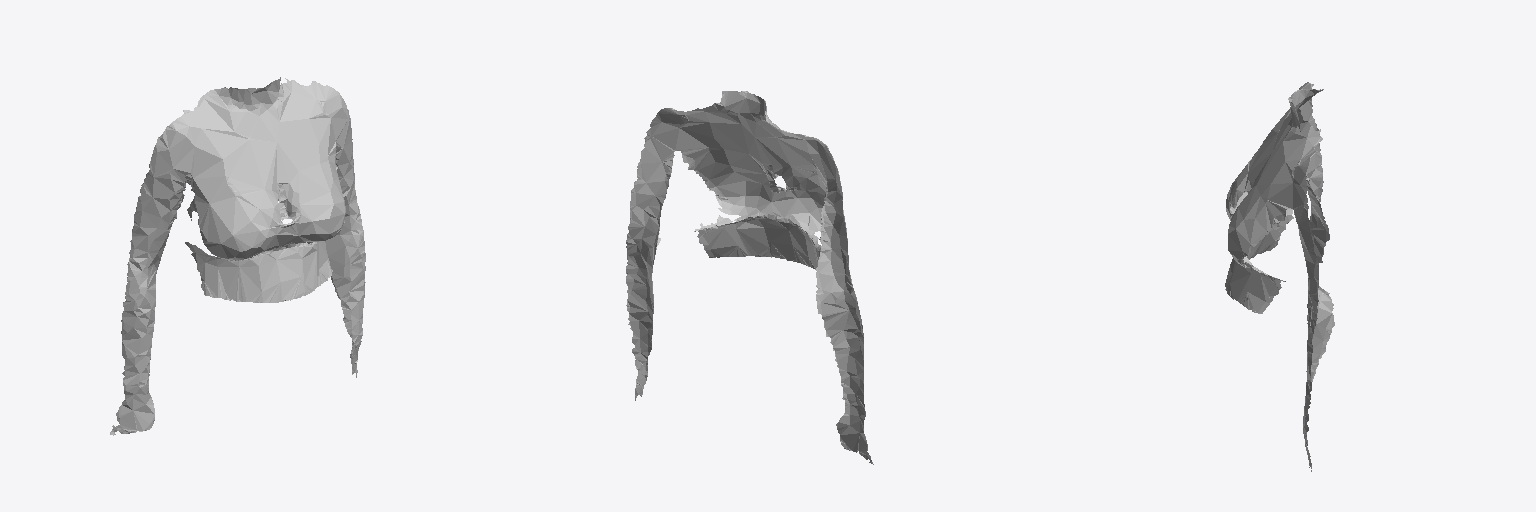
The model's file is bust.obj.
The picture shows the model from 3 angles: view 1: azimuth 30°, elevation 25°; view 2: azimuth 150°, elevation 25°; view 3: azimuth 270°, elevation 25°; orthographic projection.
Size of the model in its own units: 525 by 651 by 198.